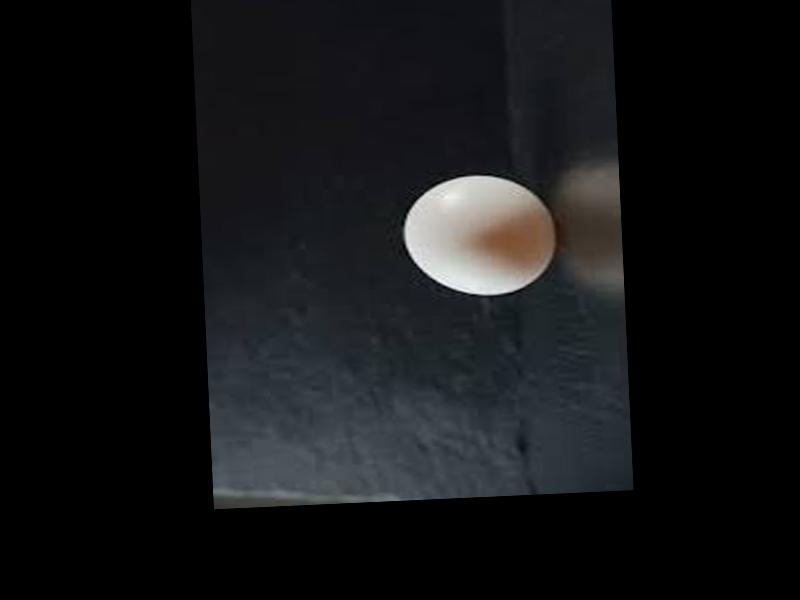Eggs: (397, 173, 557, 299)
